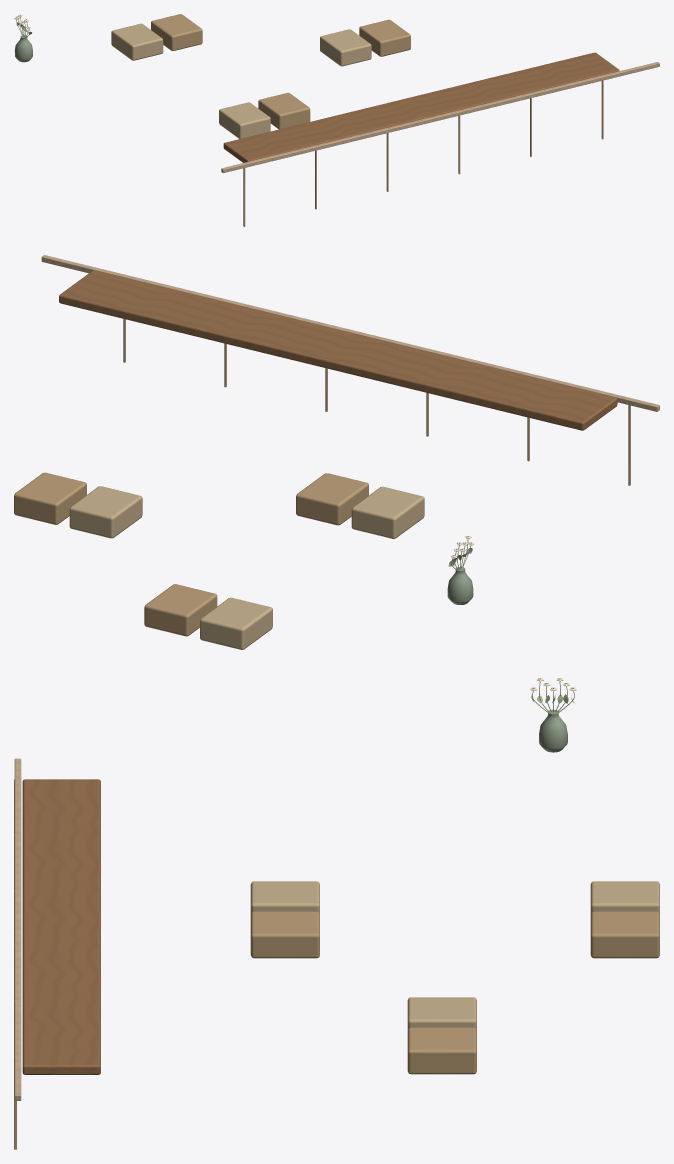
File: styling-v9.glb
3 renders of one model, top to bottom at view 1: azimuth 30°, elevation 25°; view 2: azimuth 150°, elevation 25°; view 3: azimuth 270°, elevation 25°, orthographic. The views are drawn at different scales.
Parts seen in each view (by area): view 1: styling-v9; view 2: styling-v9; view 3: styling-v9.
Part boxes in pixels (left/top/right/bottom): styling-v9: left=14, top=14, right=659, bottom=226; styling-v9: left=14, top=255, right=659, bottom=649; styling-v9: left=14, top=678, right=659, bottom=1149.
Size of the model in its own units: 6.61 by 1.31 by 4.94.
Materials: 10 (4 with a texture image).
